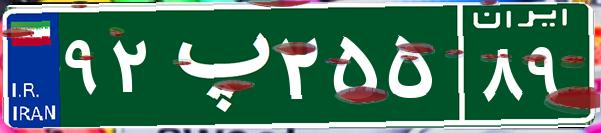2: (273, 28, 330, 110), (110, 28, 158, 105)
5: (385, 28, 445, 110), (330, 28, 385, 110)
8: (475, 38, 525, 113)
9: (57, 26, 110, 107), (525, 38, 570, 115)
پ: (158, 15, 273, 115)
